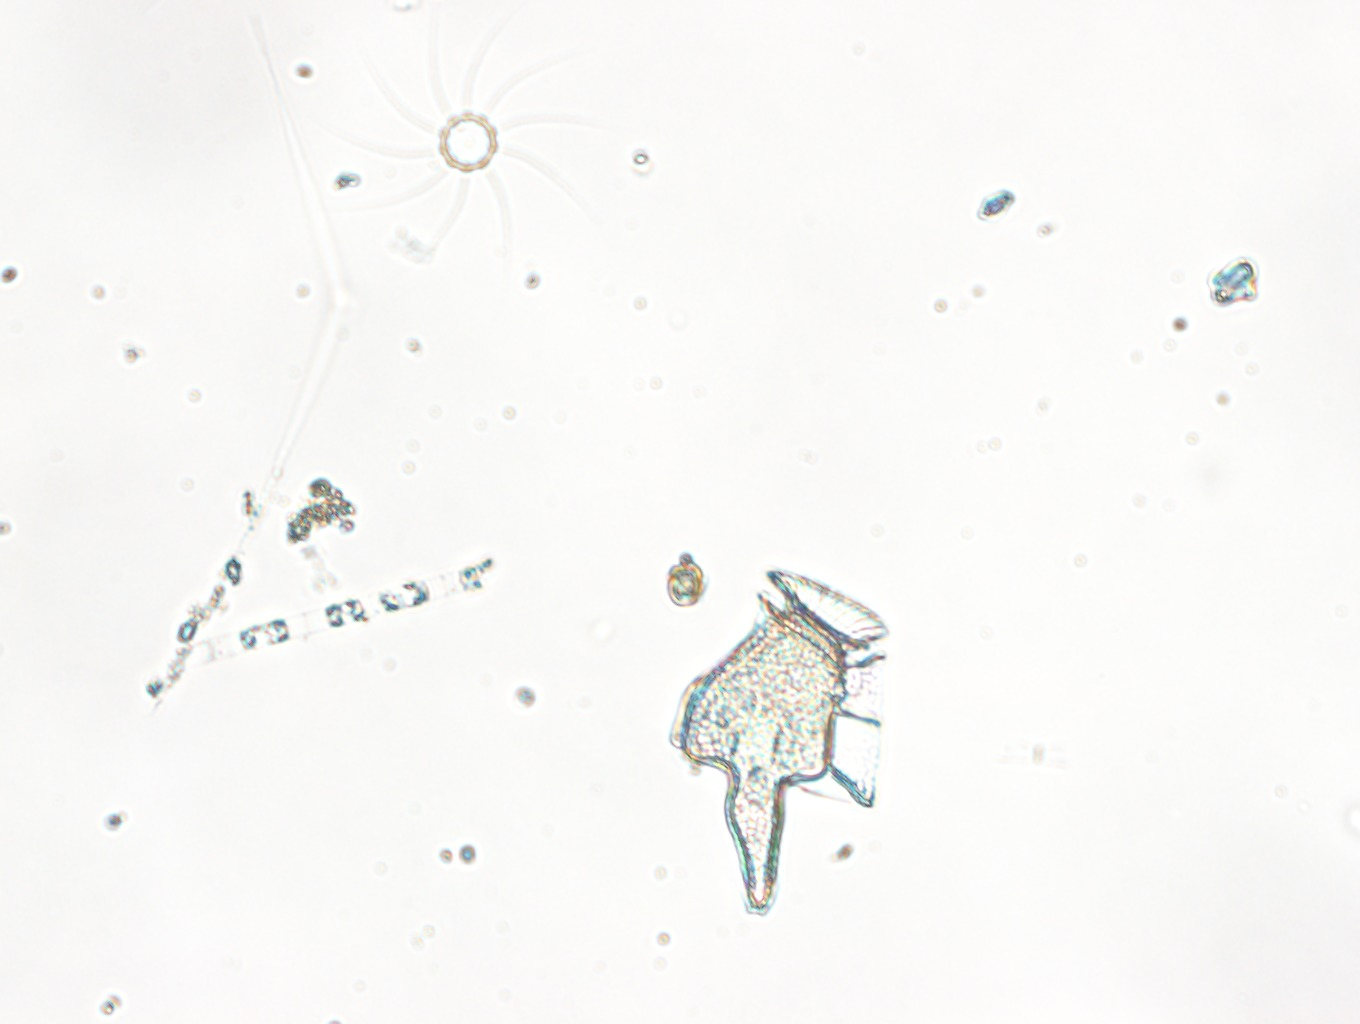bacteriastrum: (333, 8, 616, 270)
dinophysis caudata: (682, 570, 885, 915)
skeletonema: (177, 557, 493, 673)
